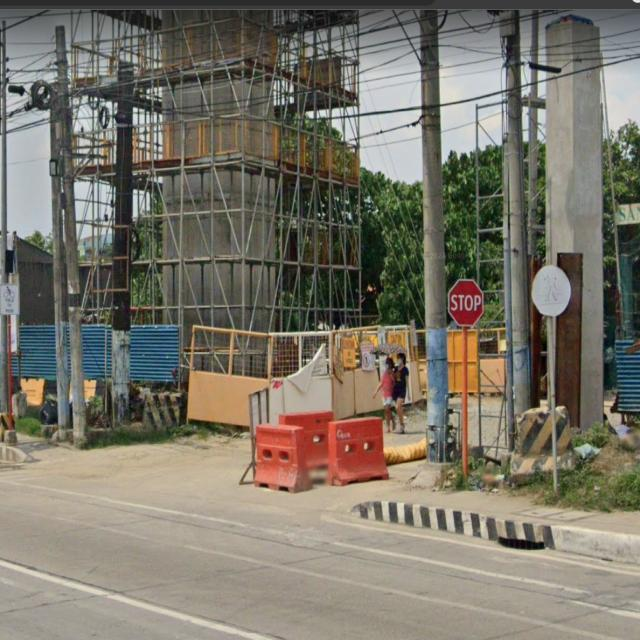stop: (445, 273, 490, 339)
